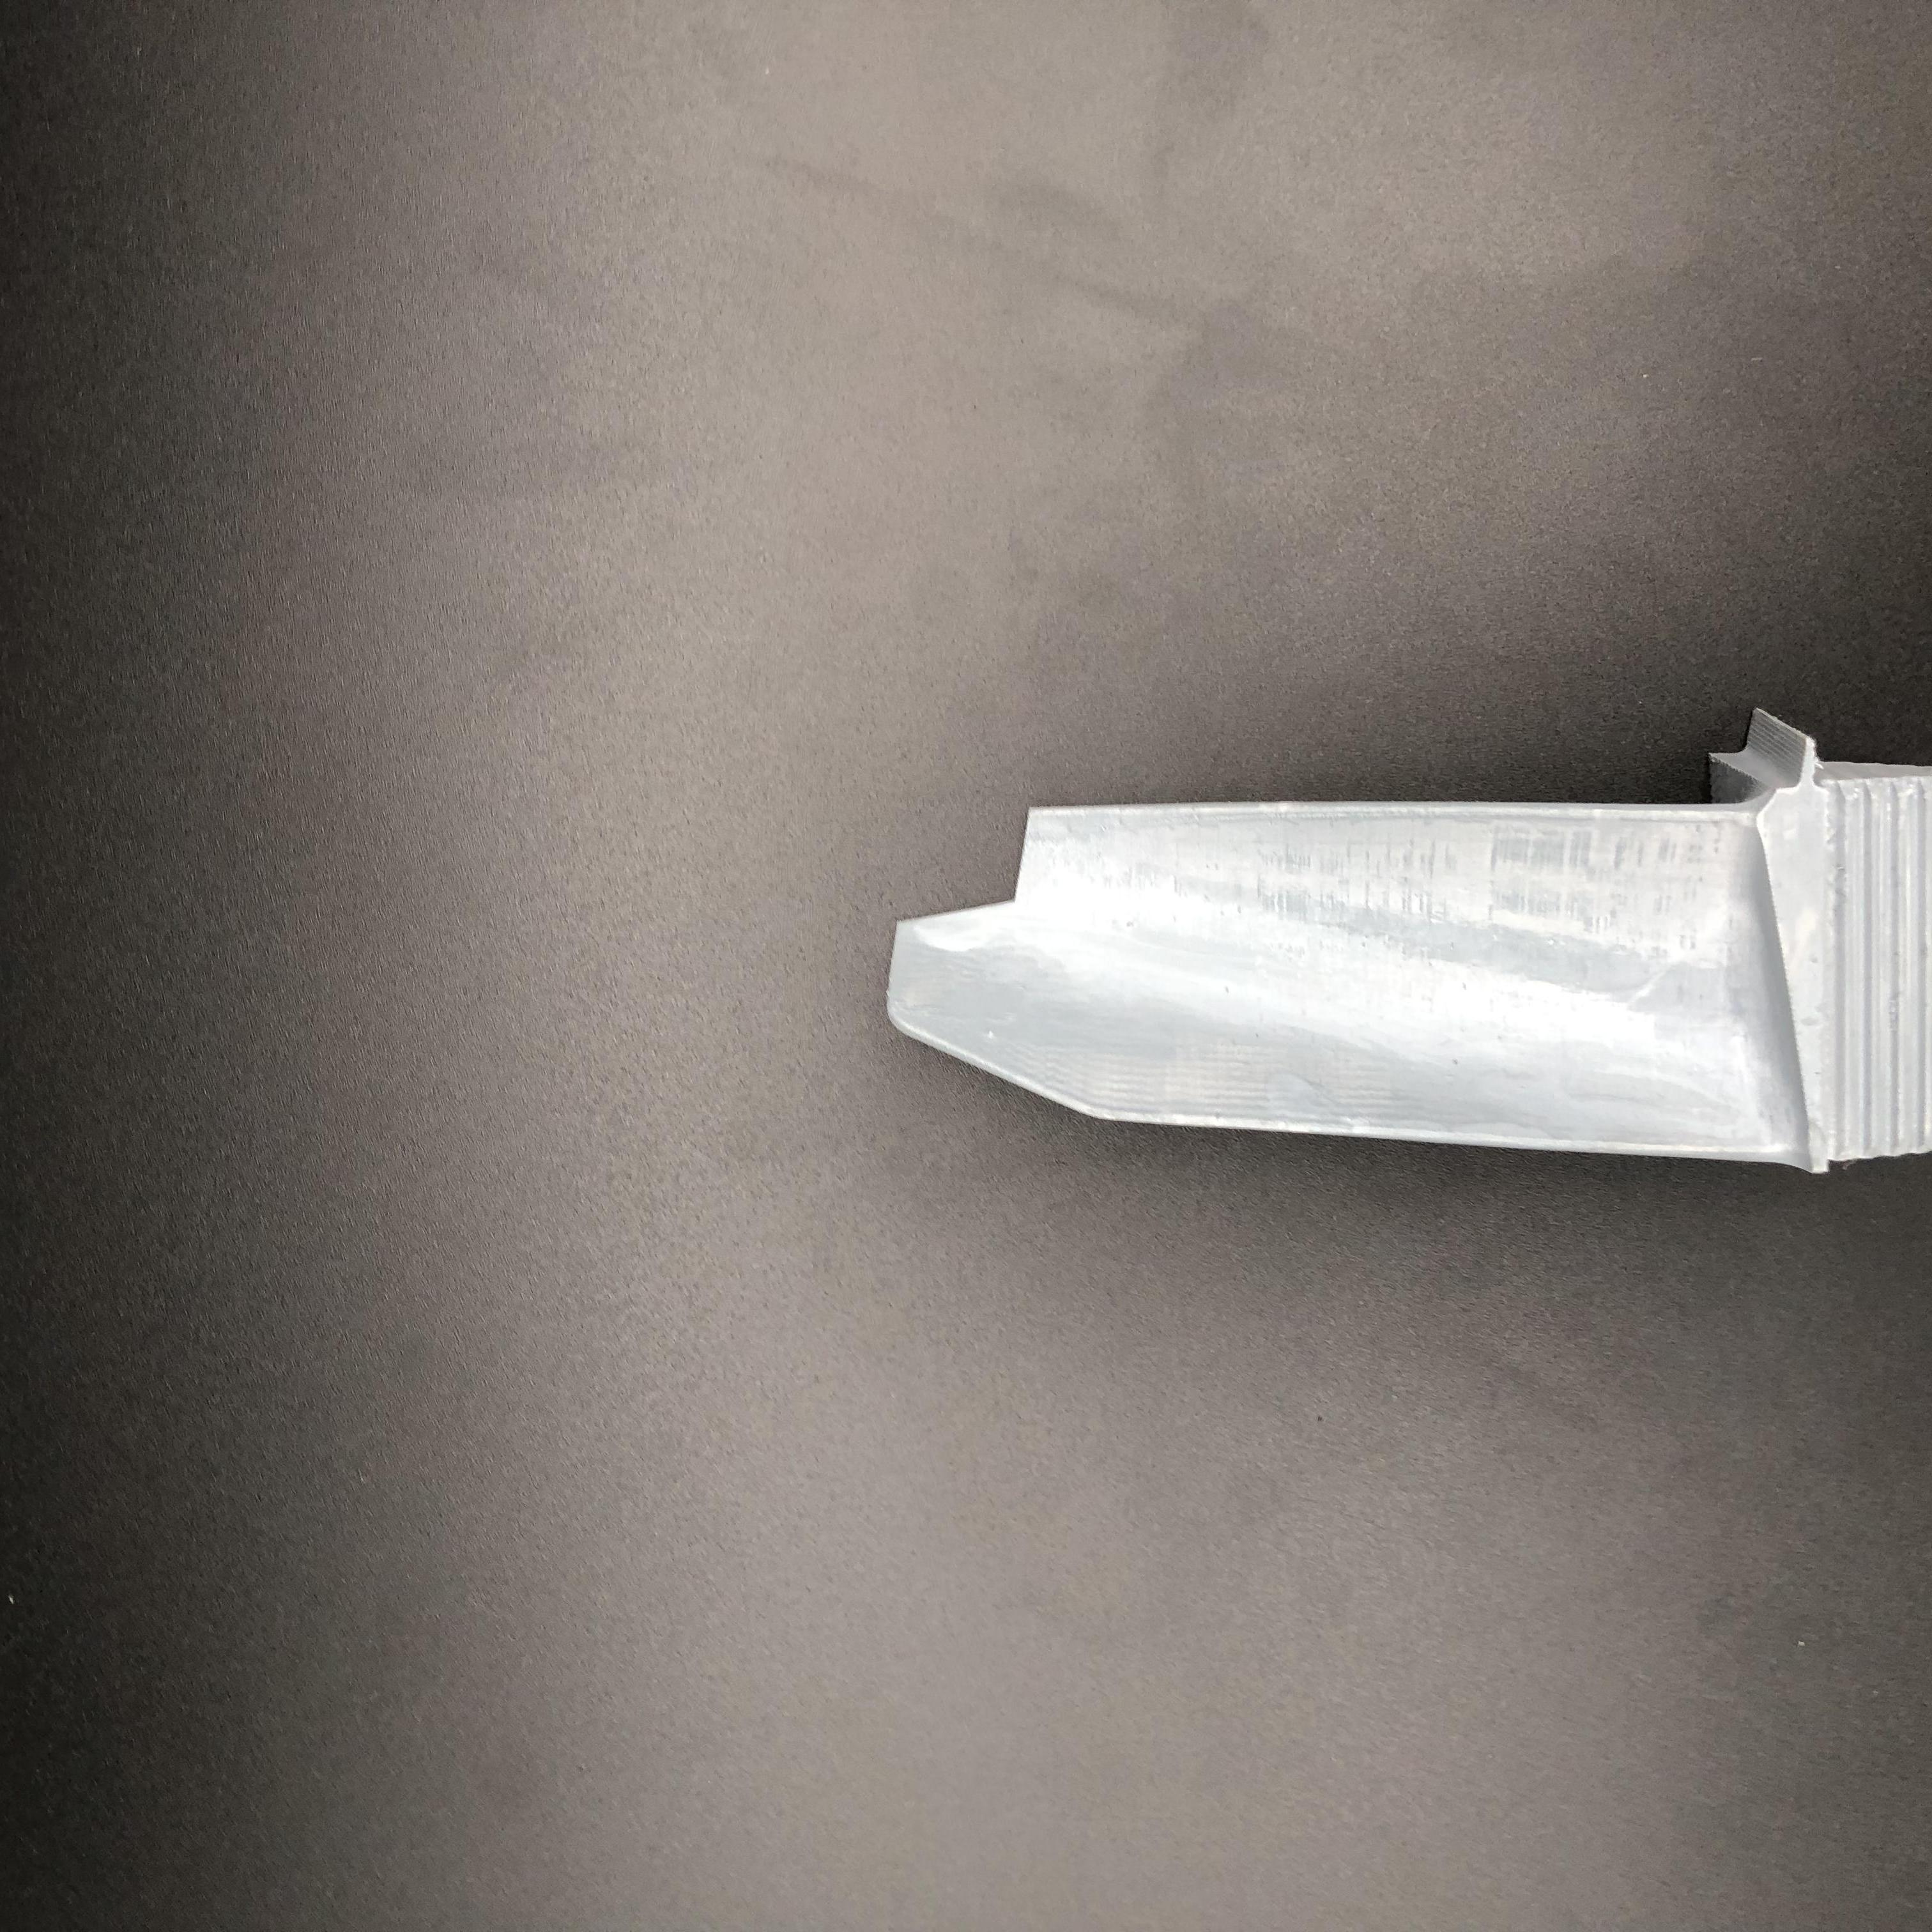fracture: (904, 821, 1063, 934)
